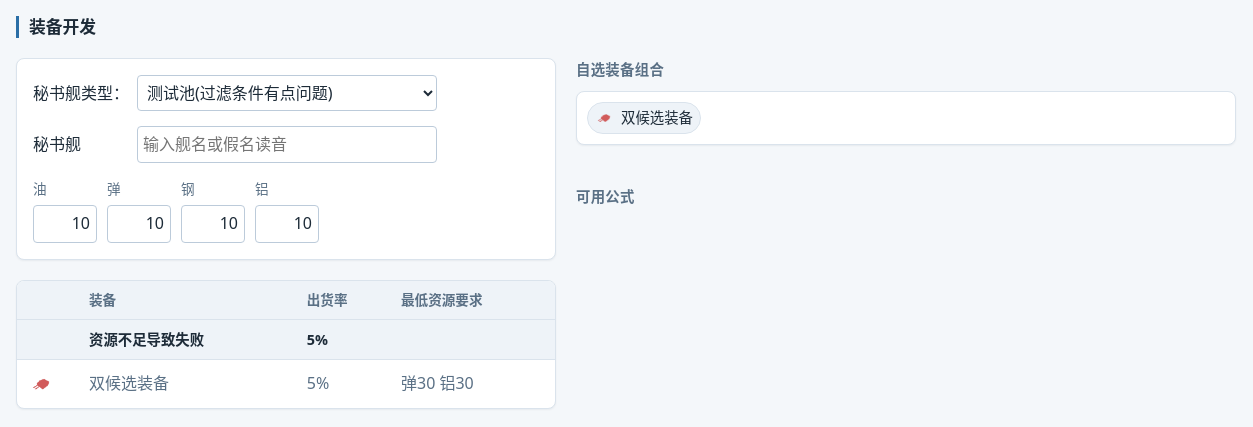
Test: DevelopmentView — 「可用公式」的选中语义 › 点击另一行才会应用那一行的公式
Click the button "双候选装备" at x=644, y=118, box top-left (587, 102), bottom-right (701, 134)
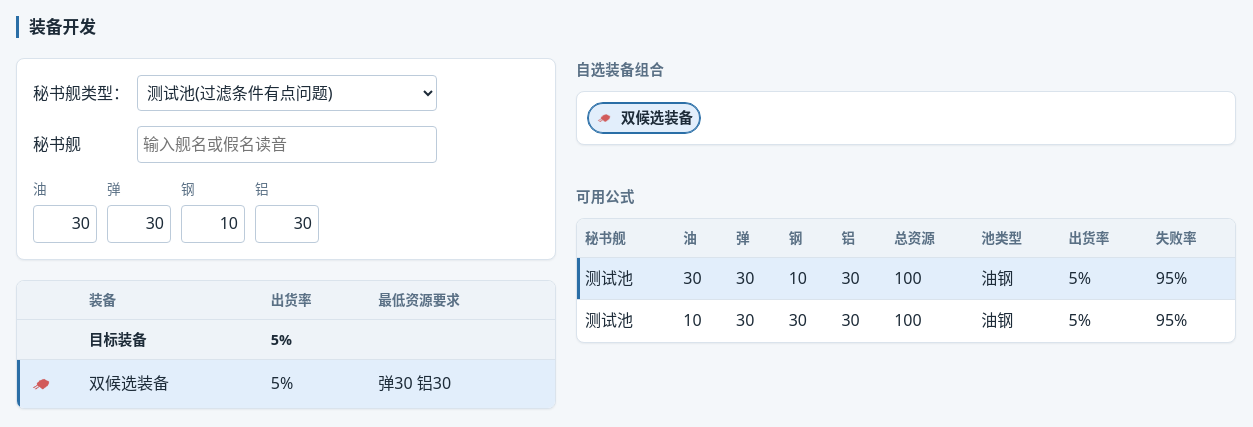
Expected: the field with id "fuel" holds "30", top-left (33, 205), bottom-right (97, 243)
Click the row "测试池 10 30 30 30 100 油钢 5% 95%" at x=906, y=321, box top-left (577, 300), bottom-right (1235, 342)
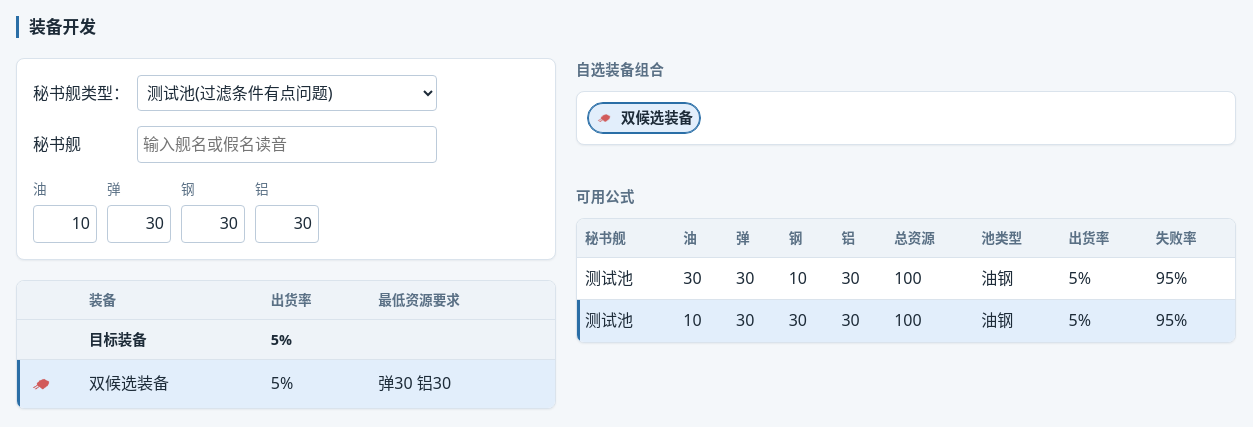
Expected: the field with id "fuel" holds "10", top-left (33, 205), bottom-right (97, 243)
Expected: the field with id "steel" holds "30", top-left (181, 205), bottom-right (245, 243)
